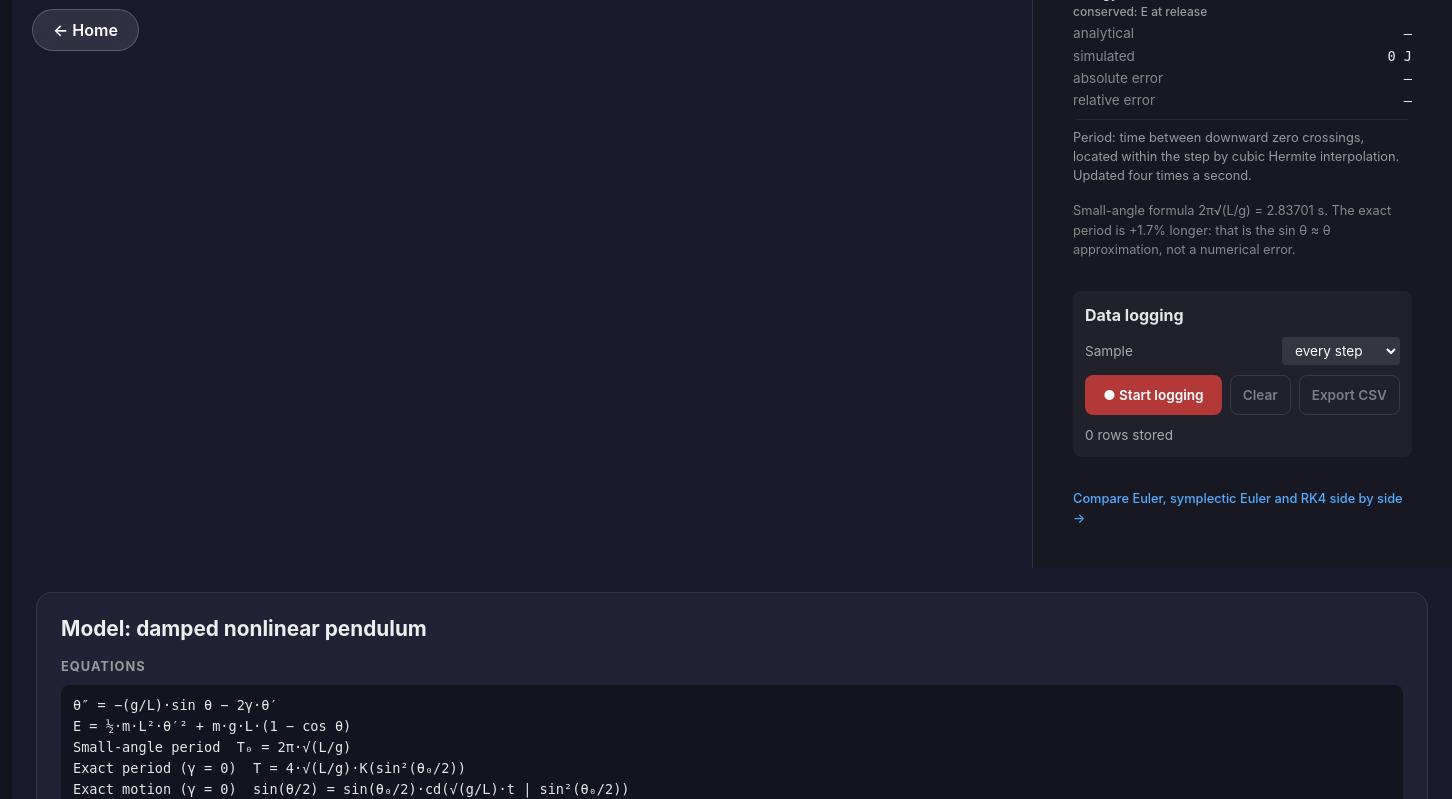
Test: validation, logging and export in the Oscillator Lab › logs samples between start and stop, and exports them as CSV
(page scrolled)
Expected: the button "Export CSV" is disabled, [1299,375,1400,415]
Click the button "● Start logging". click: {"x": 1153, "y": 395}
box: [1085,375,1222,415]
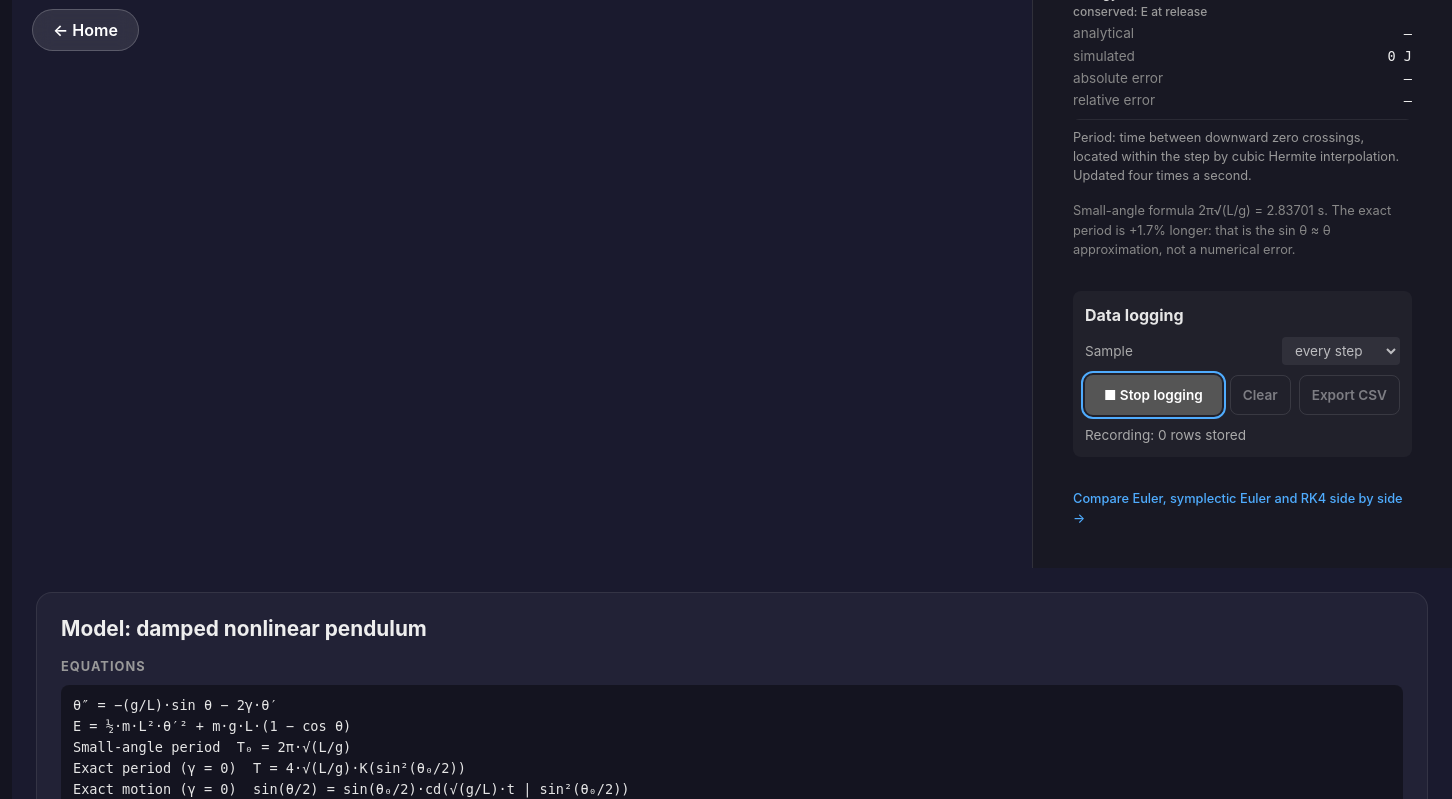
Click the button "■ Stop logging". click: {"x": 1153, "y": 395}
box: [1085,375,1222,415]
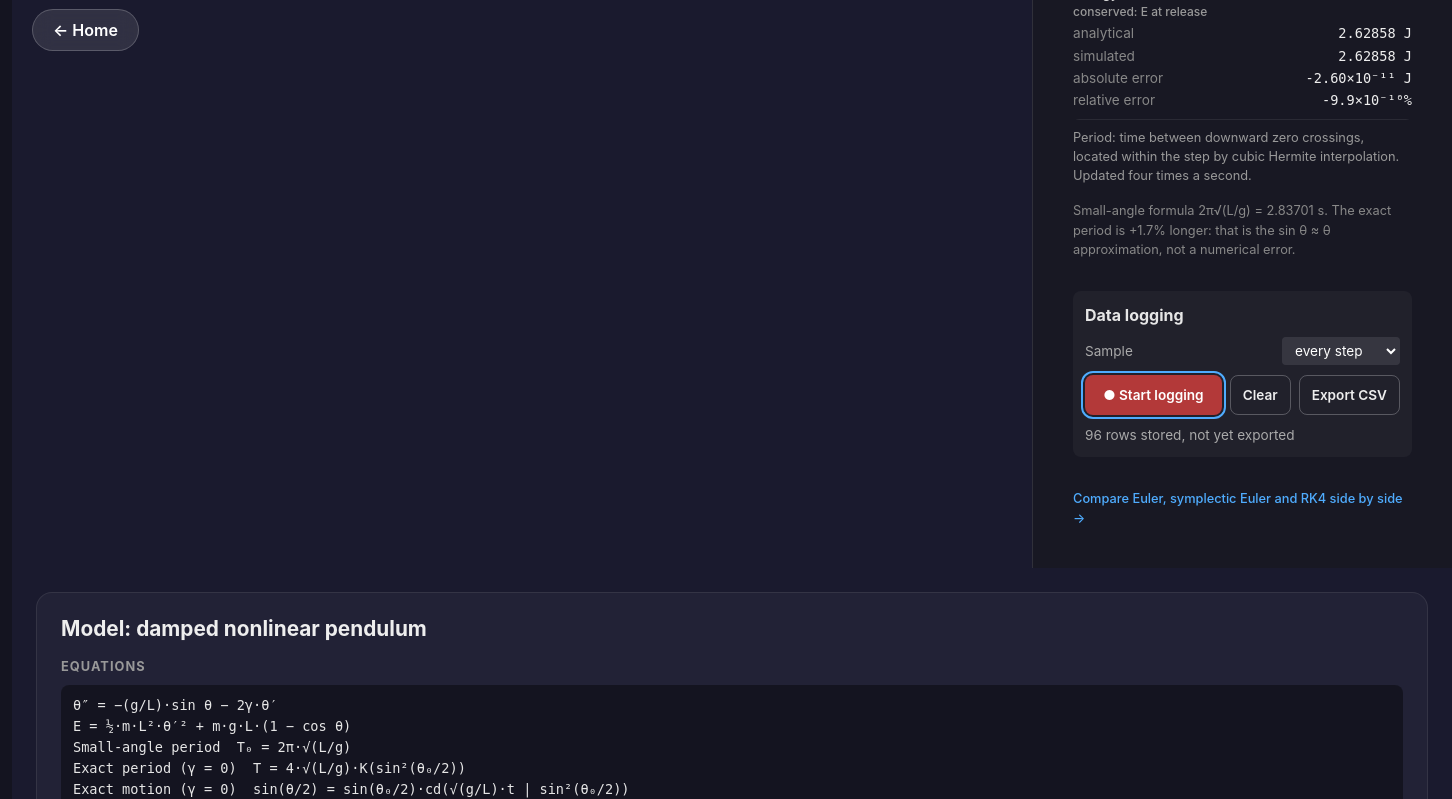
Click the button "Export CSV". click: {"x": 1349, "y": 395}
box: [1299,375,1400,415]
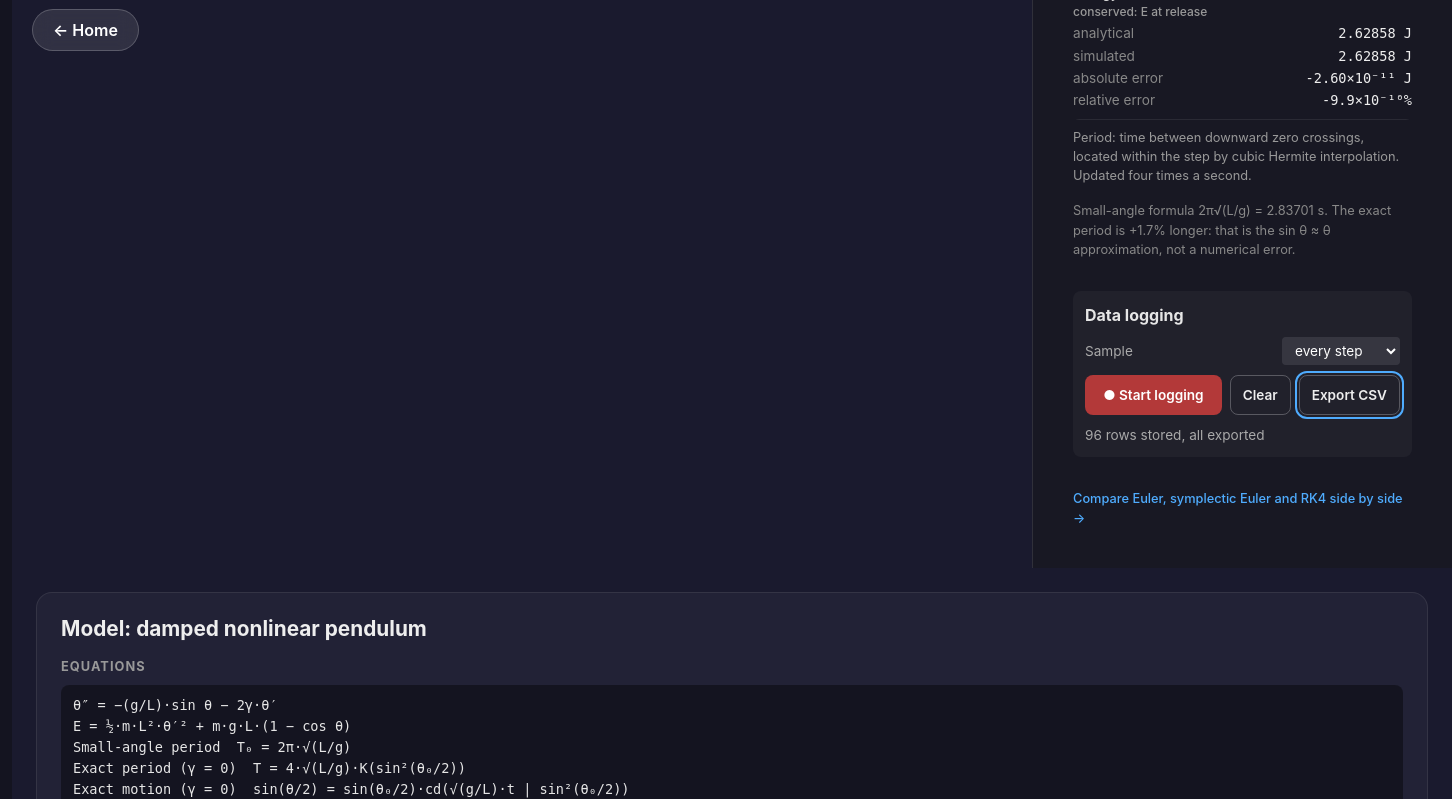
Click the button "Clear". click: {"x": 1260, "y": 395}
box: [1230,375,1291,415]
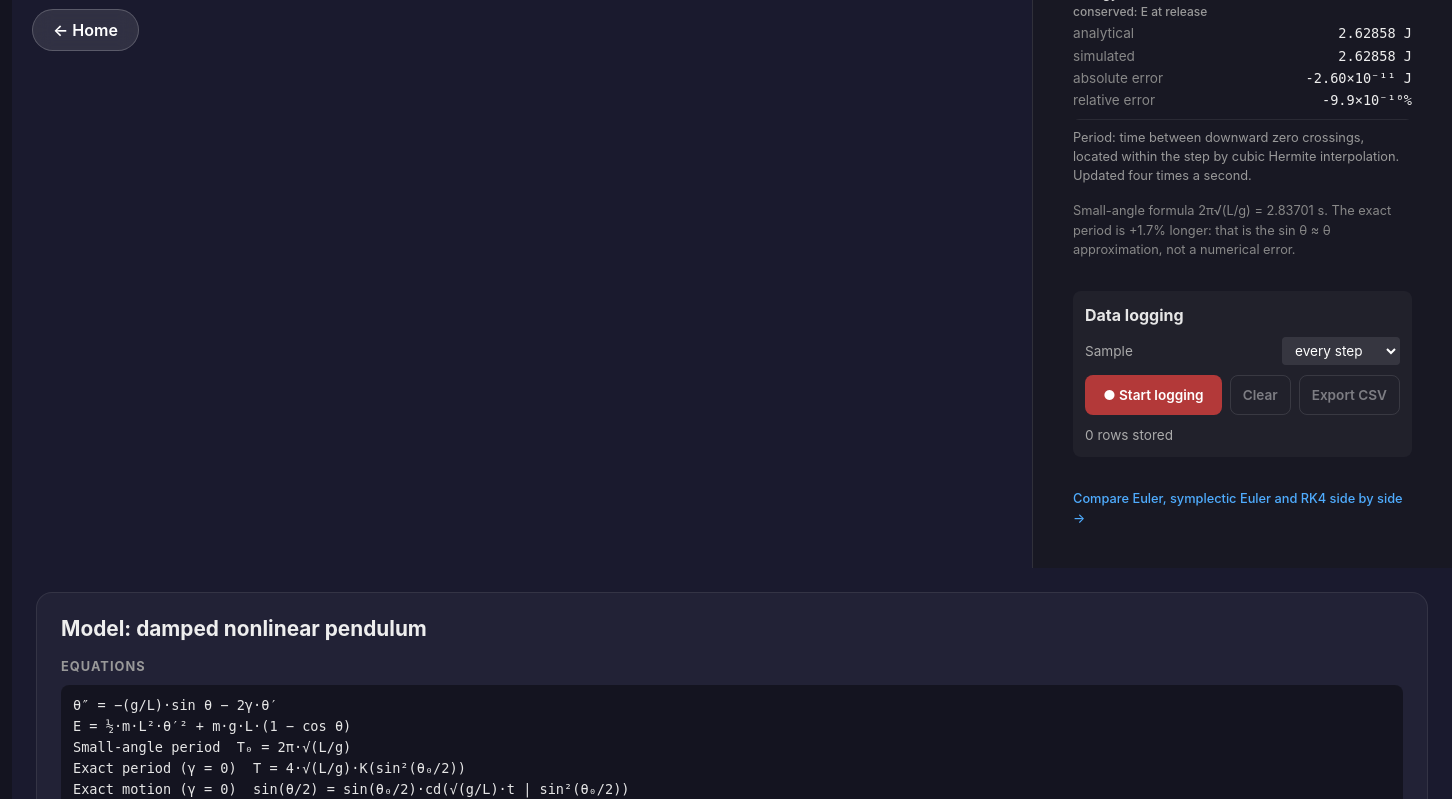
Expected: the text "0 rows stored" is shown, [1085,427,1173,443]
